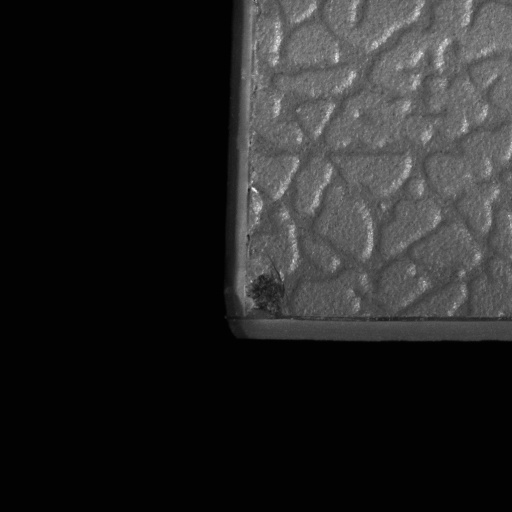bengque: (242, 272, 289, 319)
